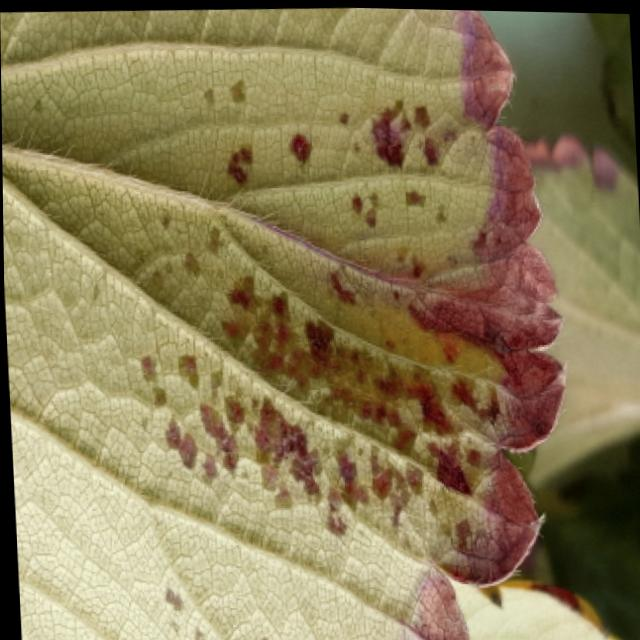Angular Leafspot: (72, 69, 547, 640)
